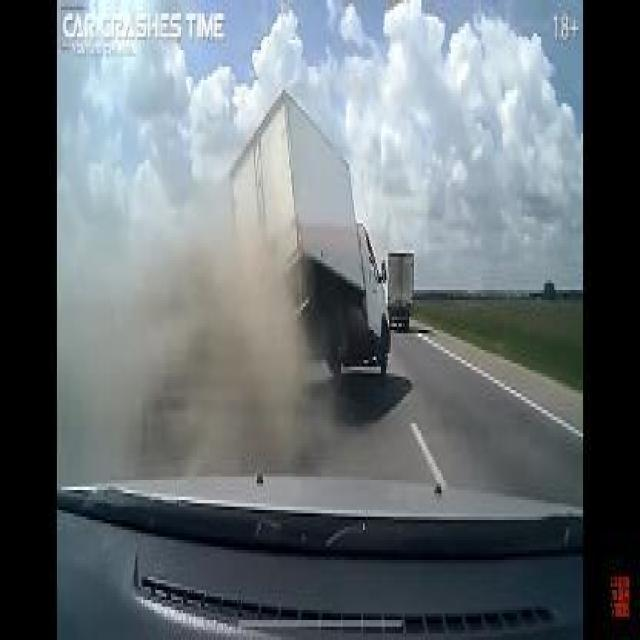accident: (214, 76, 401, 406)
